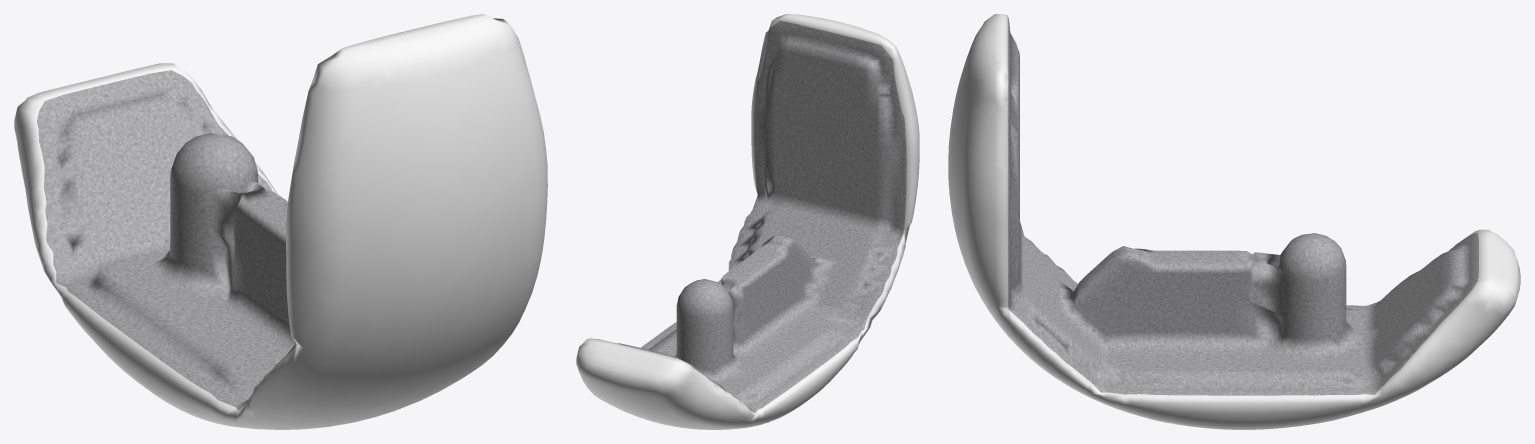
Rendered from femoral_iu_lod1.glb.
3 views of the same model, side by side, from view 1: azimuth 30°, elevation 25°; view 2: azimuth 150°, elevation 25°; view 3: azimuth 270°, elevation 25° (orthographic). The views are drawn at different scales.
Visible parts, largest first — view 1: femoral_iu; view 2: femoral_iu; view 3: femoral_iu.
Boxes of the visible parts, x1,y1,x2,y2 form: femoral_iu: [14, 14, 547, 429]; femoral_iu: [576, 14, 919, 429]; femoral_iu: [948, 14, 1520, 429].
Bounding box in the file's own units: 0.0198 × 0.0354 × 0.0499.
2 materials, 1 textured.
